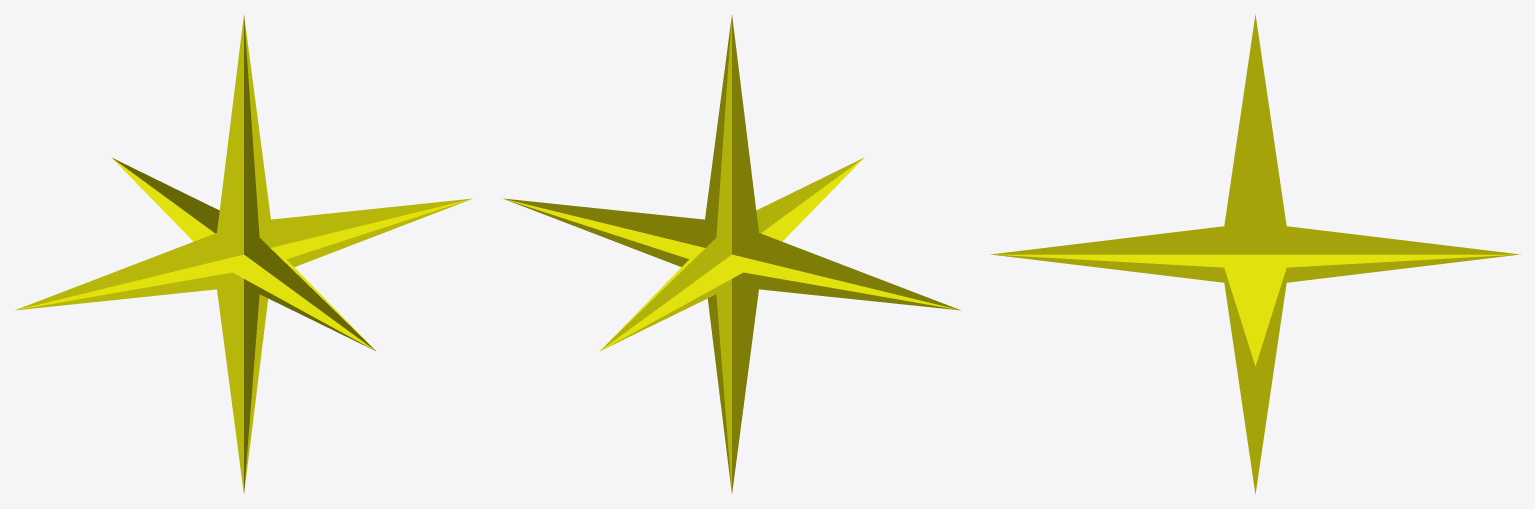
File: godclient_waypoint_path.fbx
The picture shows the model from 3 angles, left to right: view 1: azimuth 30°, elevation 25°; view 2: azimuth 150°, elevation 25°; view 3: azimuth 270°, elevation 25°; orthographic projection.
Parts seen in each view (by area): view 1: mesh_node; view 2: mesh_node; view 3: mesh_node.
Part boxes in pixels (box(x1,y1,x2,y2)): mesh_node: box(14, 15, 473, 493); mesh_node: box(502, 15, 961, 493); mesh_node: box(990, 14, 1520, 494).
Size of the model in its own units: 1.5 by 1.5 by 1.5.
1 material, 1 textured.
